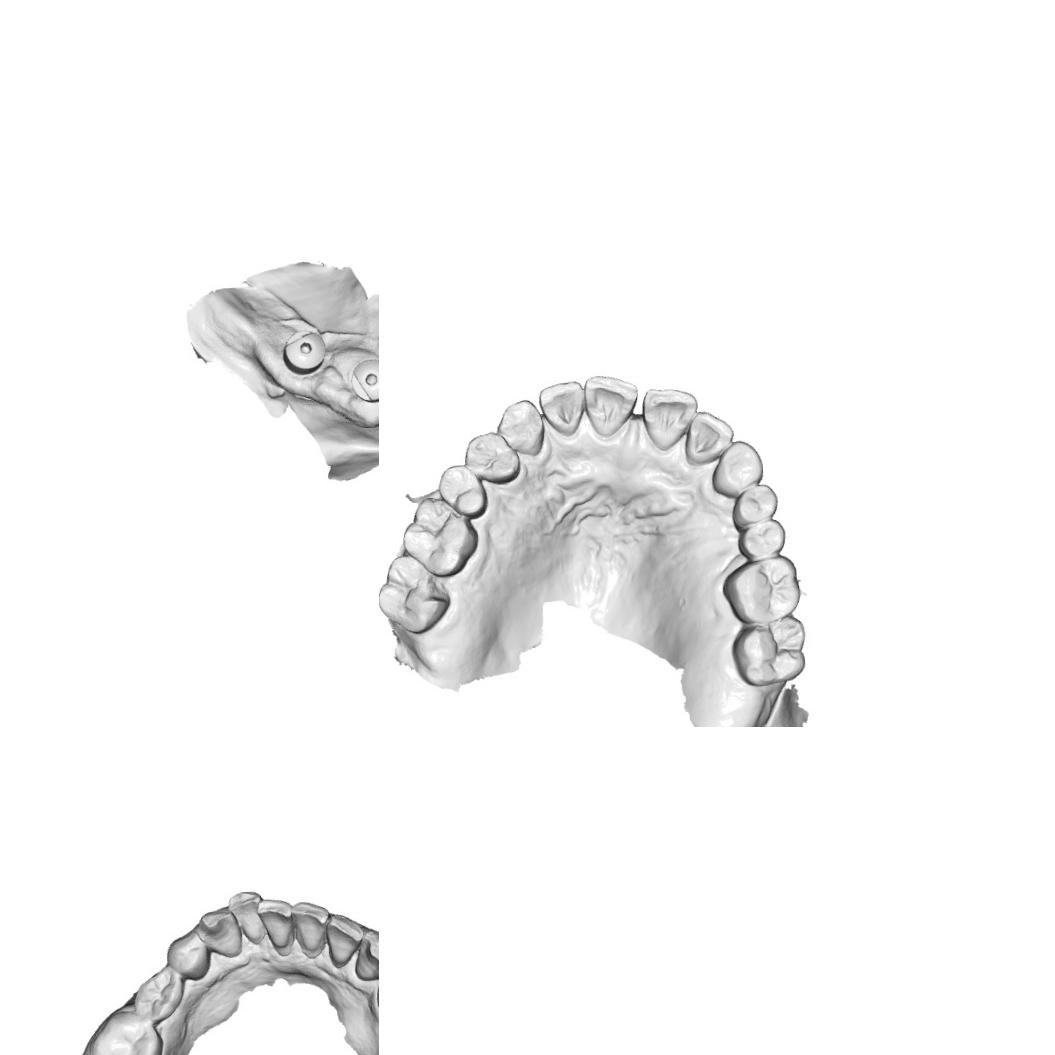canine: (492, 397, 546, 460), (708, 438, 765, 496), (193, 907, 244, 960), (350, 925, 379, 981)
implant: (278, 322, 329, 377), (343, 352, 379, 405)
incisor: (641, 384, 702, 452), (581, 372, 641, 438), (535, 379, 589, 439), (681, 407, 736, 465), (288, 898, 331, 954), (323, 910, 365, 967), (254, 895, 296, 950), (226, 887, 264, 946)
molar: (397, 494, 480, 579), (379, 550, 452, 635), (729, 612, 808, 688), (720, 552, 798, 627), (87, 1006, 165, 1055)
premolar: (460, 428, 522, 486), (128, 962, 186, 1024), (436, 459, 488, 518), (158, 930, 213, 978), (728, 482, 778, 528), (735, 516, 787, 560)
